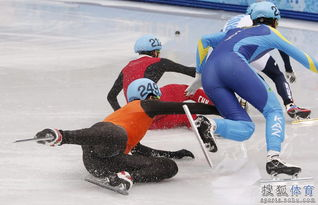fall: (190, 9, 318, 173)
